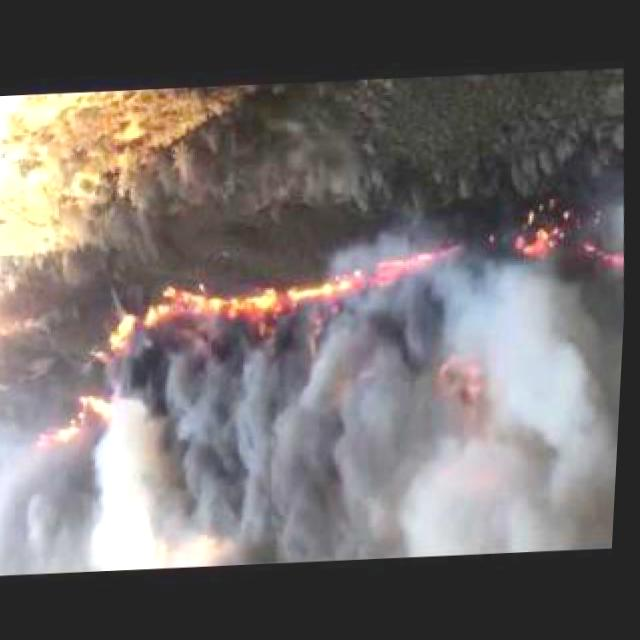helmet: (186, 262, 369, 324), (505, 196, 590, 271), (100, 298, 177, 354), (51, 390, 117, 446), (376, 238, 439, 293)
no_helmet: (98, 274, 629, 576), (0, 452, 116, 575)
